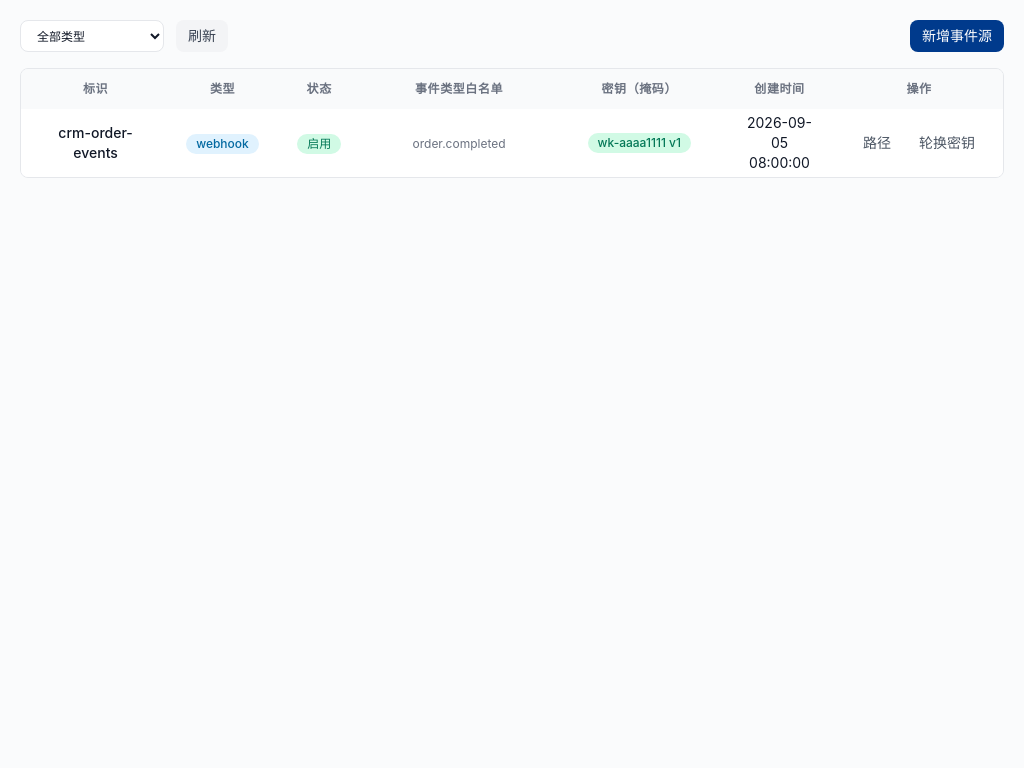
Scenario: EventSourceSettings › rotates key with confirm modal and reveals new secret
Step 1. Click the button "轮换密钥" → [947, 143], box [907,127,987,159]
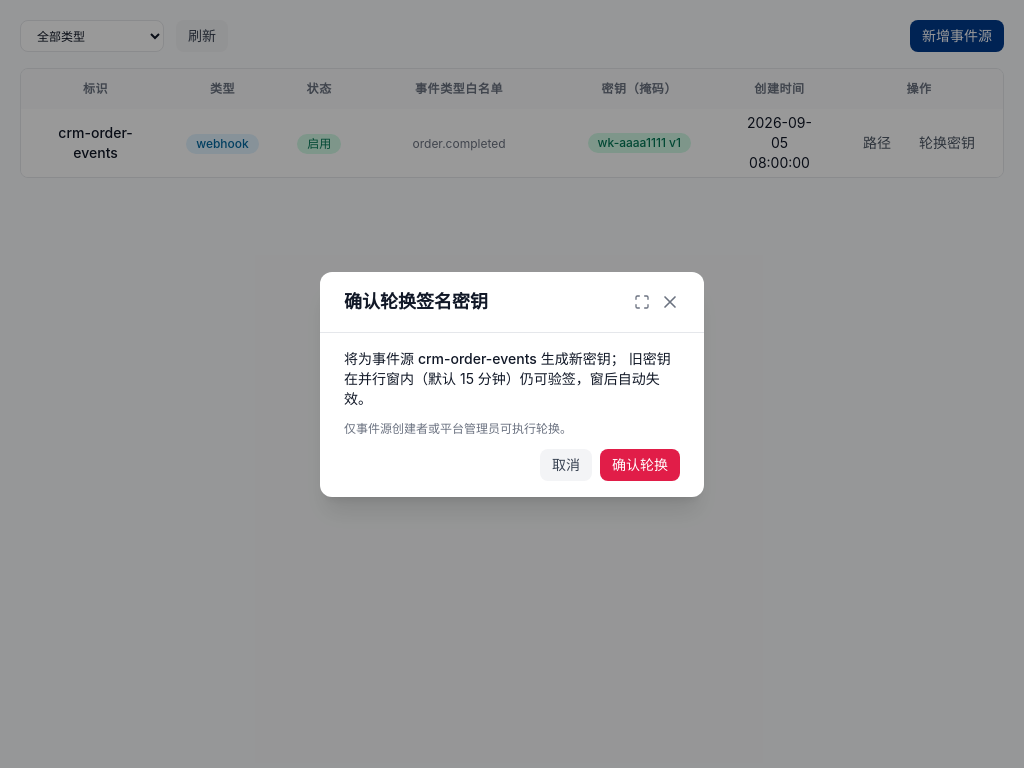
Check: the button "确认轮换" is shown
Step 2. Click the button "确认轮换" → [640, 464], box [600,448,680,480]
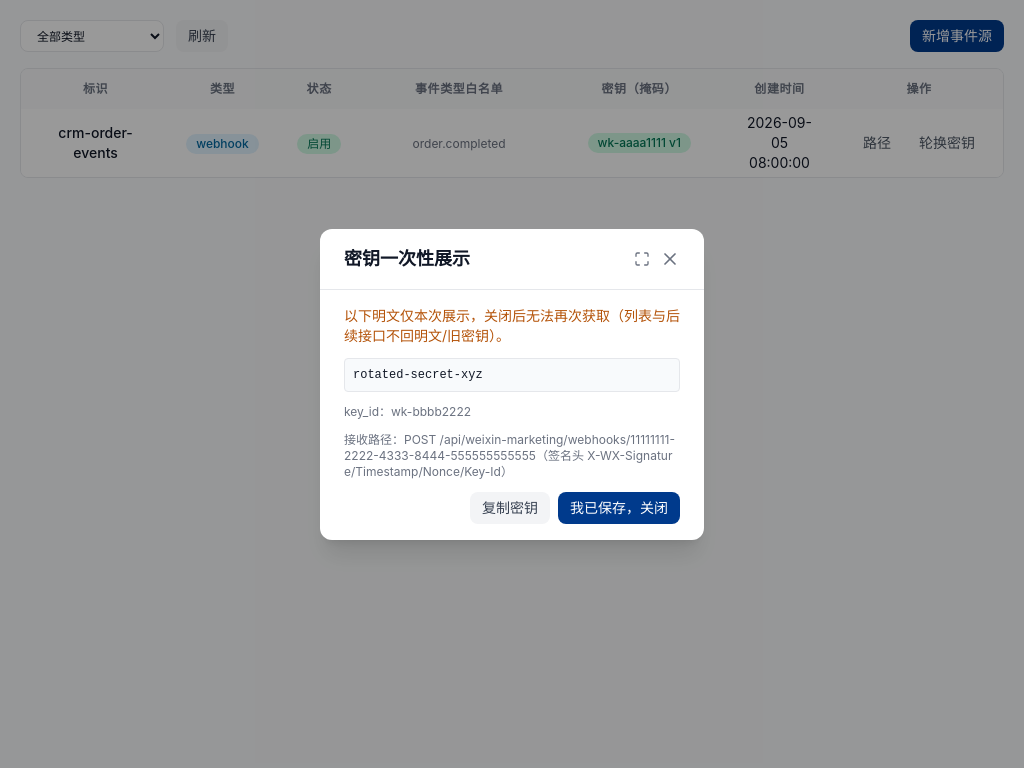
Check: the element with test id "secret-reveal" is shown, box [344,306,680,524]
Check: the element with test id "secret-reveal" shows "rotated-secret-xyz", box [353,368,483,382]
